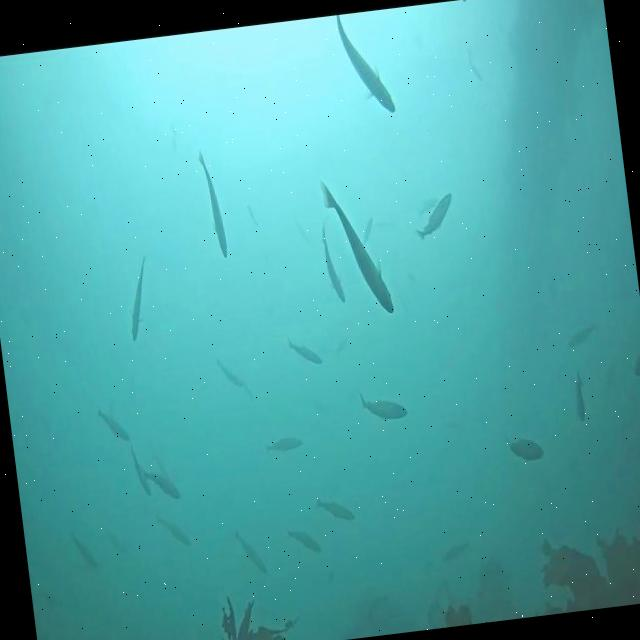fish: (319, 174, 393, 319), (333, 15, 396, 121), (196, 146, 229, 258), (120, 254, 158, 342), (358, 385, 408, 423), (234, 525, 267, 574), (142, 462, 180, 503), (154, 510, 192, 550), (314, 492, 356, 526), (71, 533, 101, 576), (286, 333, 322, 367), (97, 405, 129, 443), (504, 434, 544, 464), (288, 525, 321, 556), (132, 442, 150, 495), (572, 371, 588, 426), (217, 358, 244, 390), (264, 433, 304, 454), (564, 322, 599, 346), (414, 194, 441, 218), (466, 45, 483, 79), (359, 216, 376, 243)
